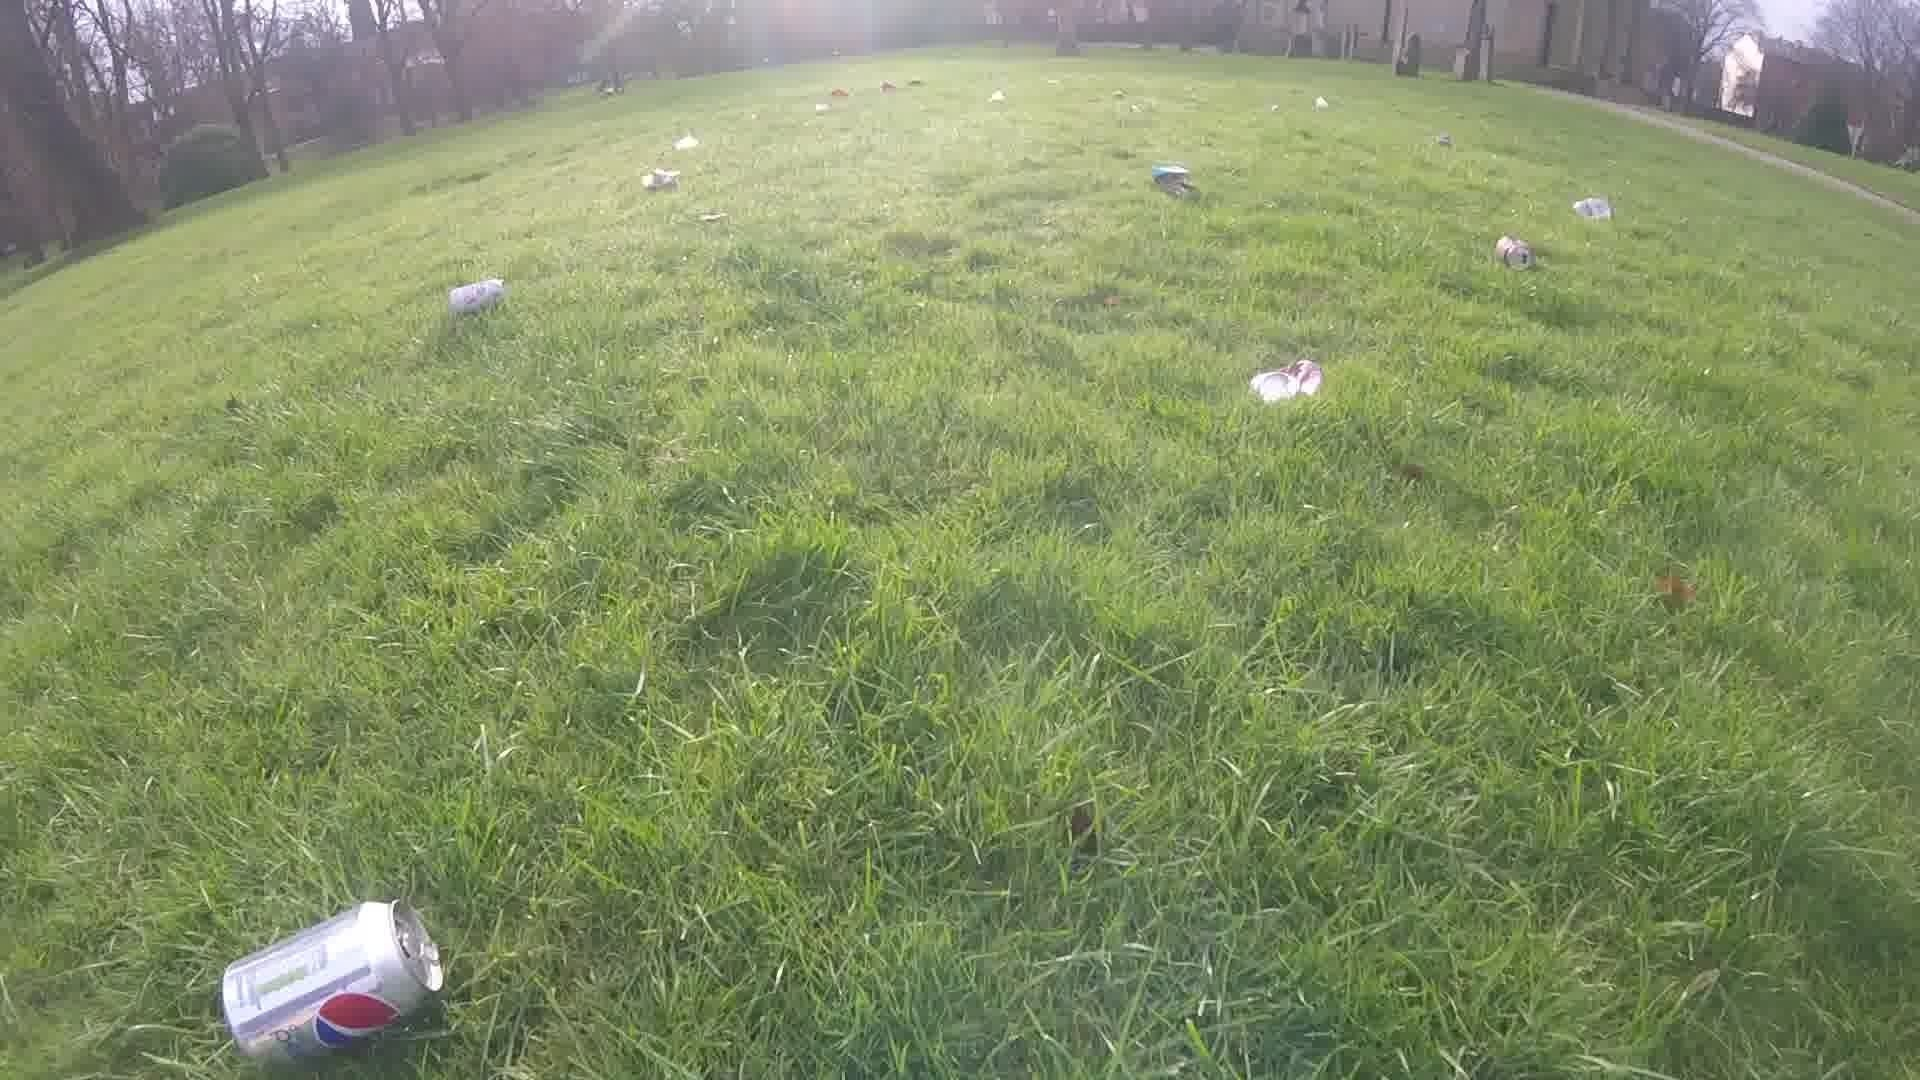litter: (218, 902, 438, 1064), (1242, 359, 1327, 404), (440, 276, 501, 313), (1567, 193, 1619, 229), (1491, 233, 1531, 268), (1150, 162, 1187, 194), (636, 164, 676, 189), (819, 80, 851, 102), (669, 135, 700, 152), (895, 74, 924, 88), (982, 87, 1002, 108), (1428, 133, 1456, 146), (811, 96, 832, 113), (877, 80, 899, 96), (1307, 96, 1332, 105)
